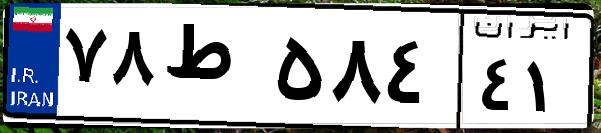1: (525, 38, 570, 115)
4: (385, 28, 445, 110), (475, 38, 525, 113)
5: (270, 28, 330, 110)
7: (57, 26, 110, 100)
8: (330, 28, 385, 110), (110, 28, 158, 98)
ط: (158, 20, 270, 120)
